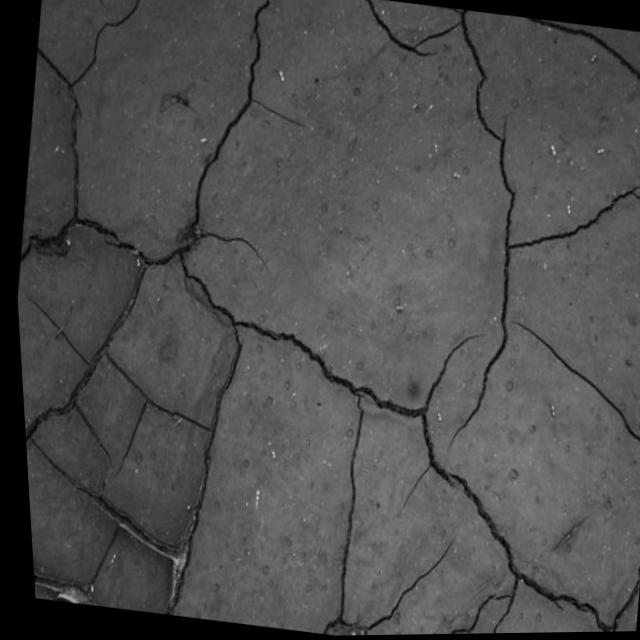Crack: (0, 0, 640, 640), (7, 143, 319, 624)
